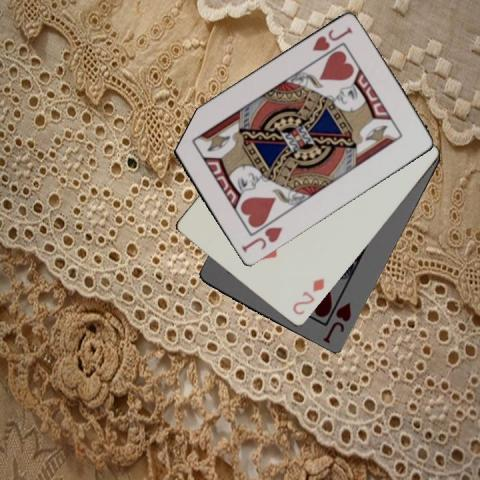2d: (289, 276, 326, 317)
Jh: (319, 300, 353, 346), (238, 224, 284, 255), (309, 24, 354, 53)
